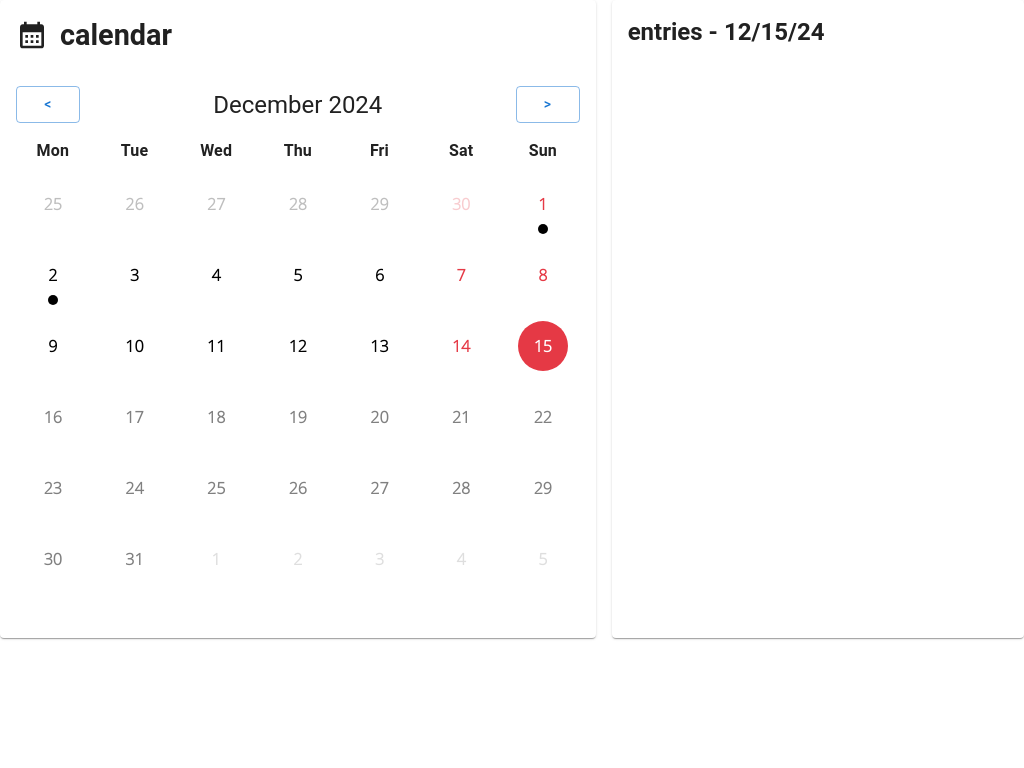
CalendarComponent › displays measurement details for selected day
Click the text with test id "day-2024-12-01" at (543, 204), box [538,193,547,215]
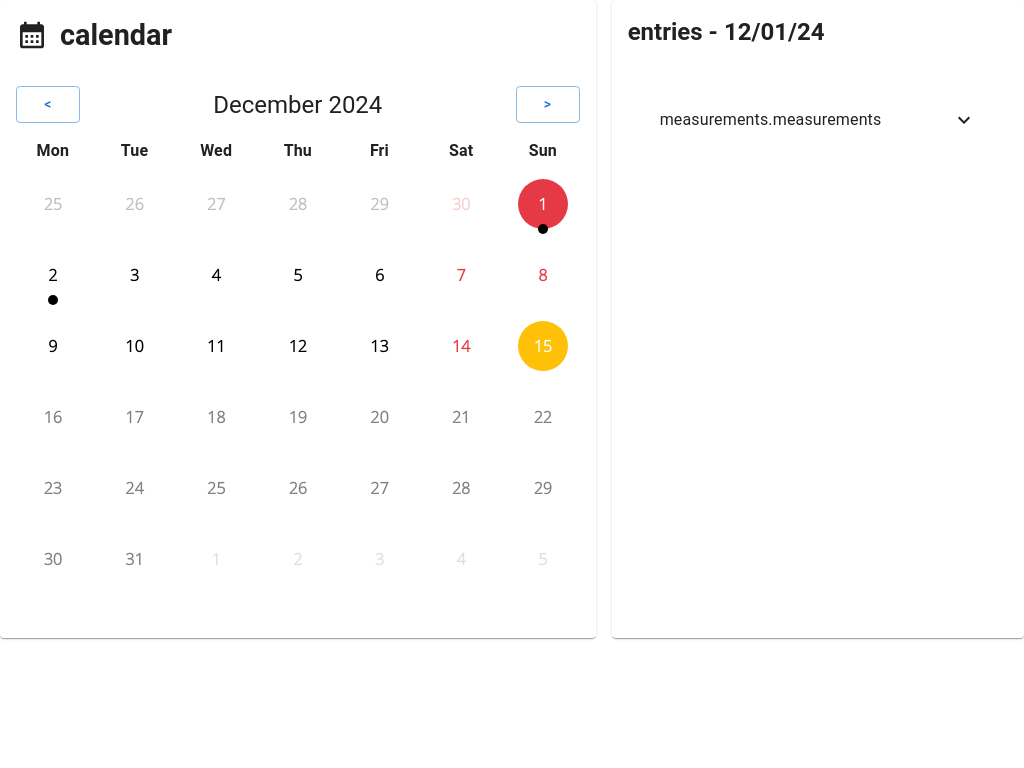
Note: more than one measurement, so they are behind the expander
Click the button "measurements.measurements" at (818, 120), box [660,108,976,132]
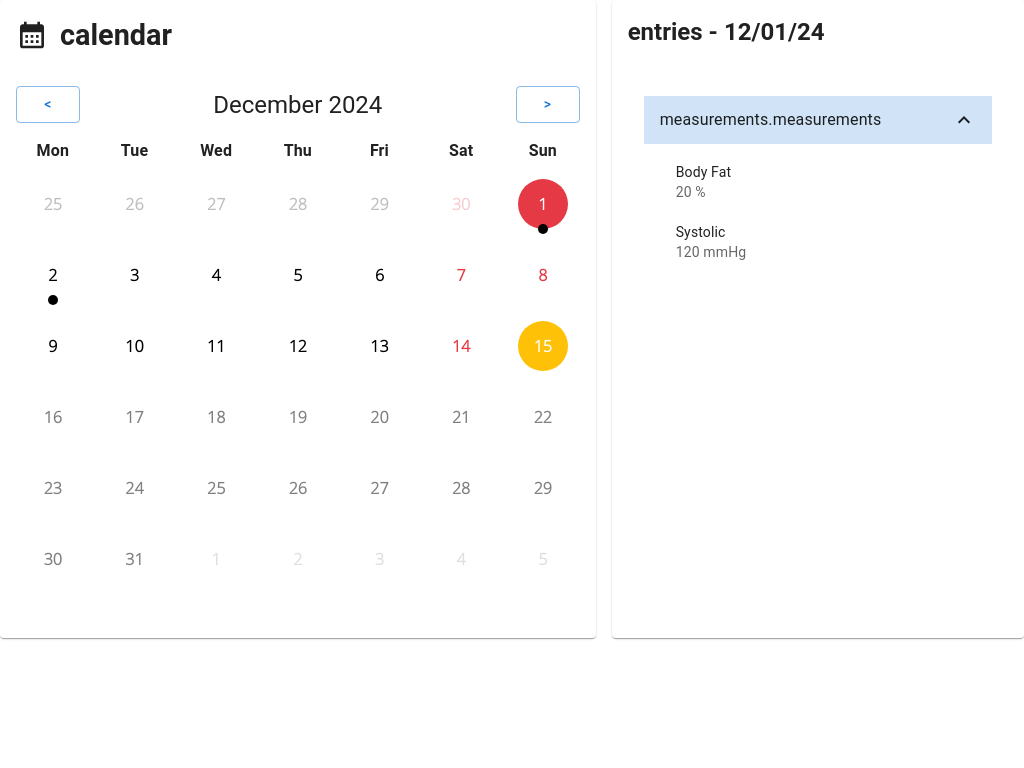
Check: the text "Body Fat" is shown, box [676,164,731,180]
Check: the text "20 %" is shown, box [676,184,706,200]
Check: the text "Systolic" is shown, box [676,224,726,240]
